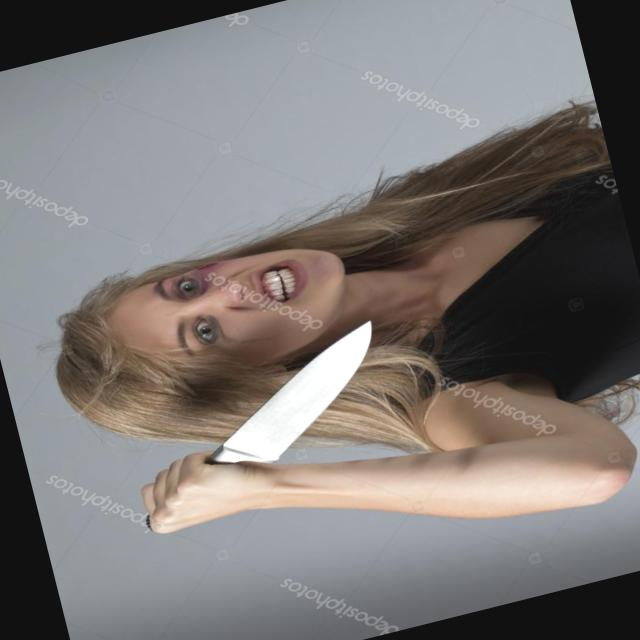knife: (112, 310, 414, 512)
